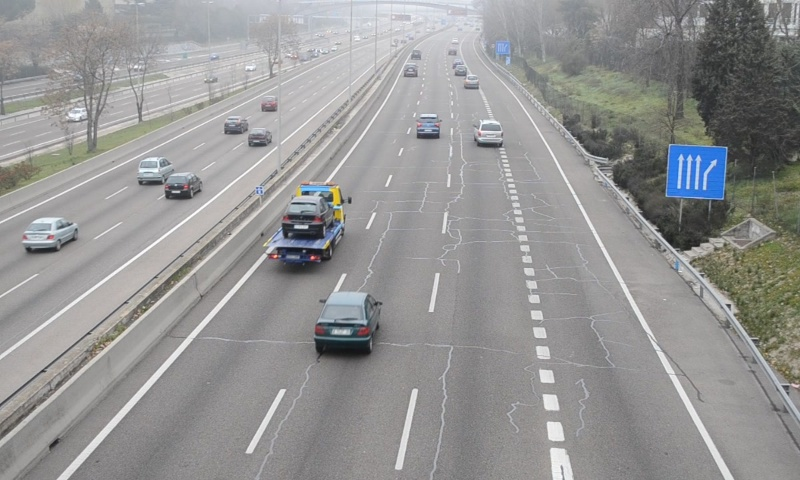car: (314, 292, 380, 348), (474, 119, 504, 144), (416, 113, 440, 138), (464, 72, 478, 90), (402, 62, 417, 78)
small-truck: (263, 182, 346, 264)
